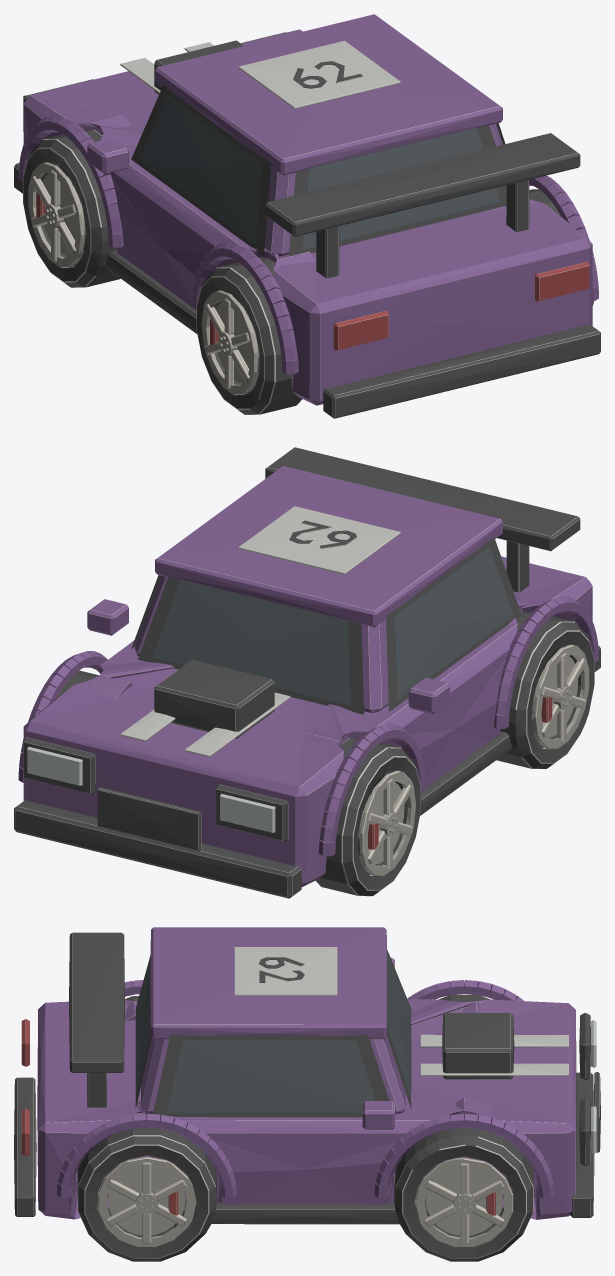
Rendered from car_muscle.glb.
3 views of the same model, one above another, from view 1: azimuth 30°, elevation 25°; view 2: azimuth 150°, elevation 25°; view 3: azimuth 270°, elevation 25° (orthographic). The views are drawn at different scales.
Parts seen in each view (by area): view 1: Body.006, WheelMesh.026, WheelMesh.024; view 2: Body.006, WheelMesh.024, WheelMesh.026; view 3: Body.006, WheelMesh.025, WheelMesh.027.
Part boxes in pixels (<box>): Body.006: <box>14,14,600,418</box>; WheelMesh.026: <box>196,257,302,414</box>; WheelMesh.024: <box>23,130,120,287</box>; Body.006: <box>14,447,600,898</box>; WheelMesh.024: <box>315,738,420,896</box>; WheelMesh.026: <box>496,612,594,768</box>; Body.006: <box>14,927,600,1224</box>; WheelMesh.025: <box>394,1128,533,1261</box>; WheelMesh.027: <box>78,1127,216,1261</box>.
Bounding box in the file's own units: 2.64 × 1.76 × 4.21.
